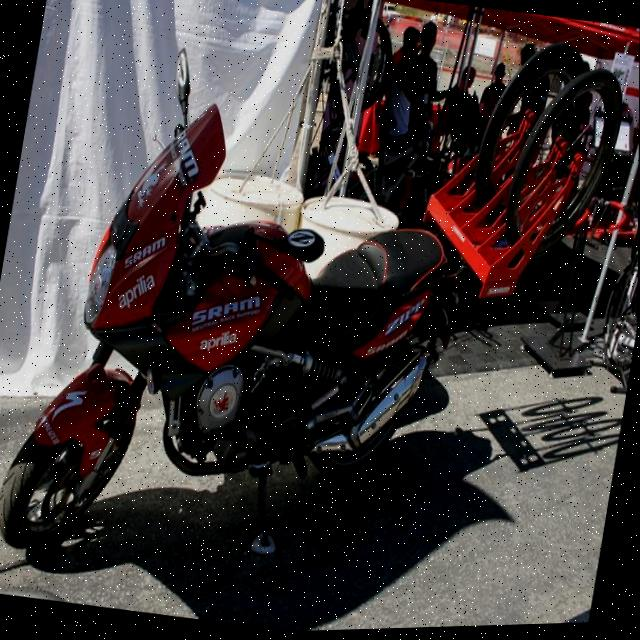motorcycle: (0, 9, 503, 621)
